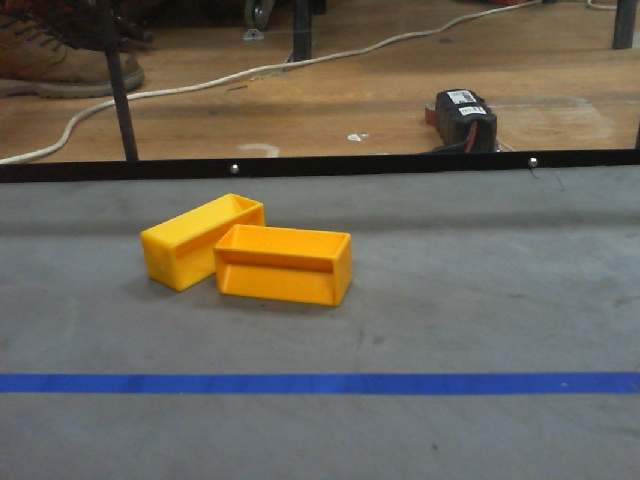YellowSample: (210, 217, 357, 315), (132, 192, 267, 288)
